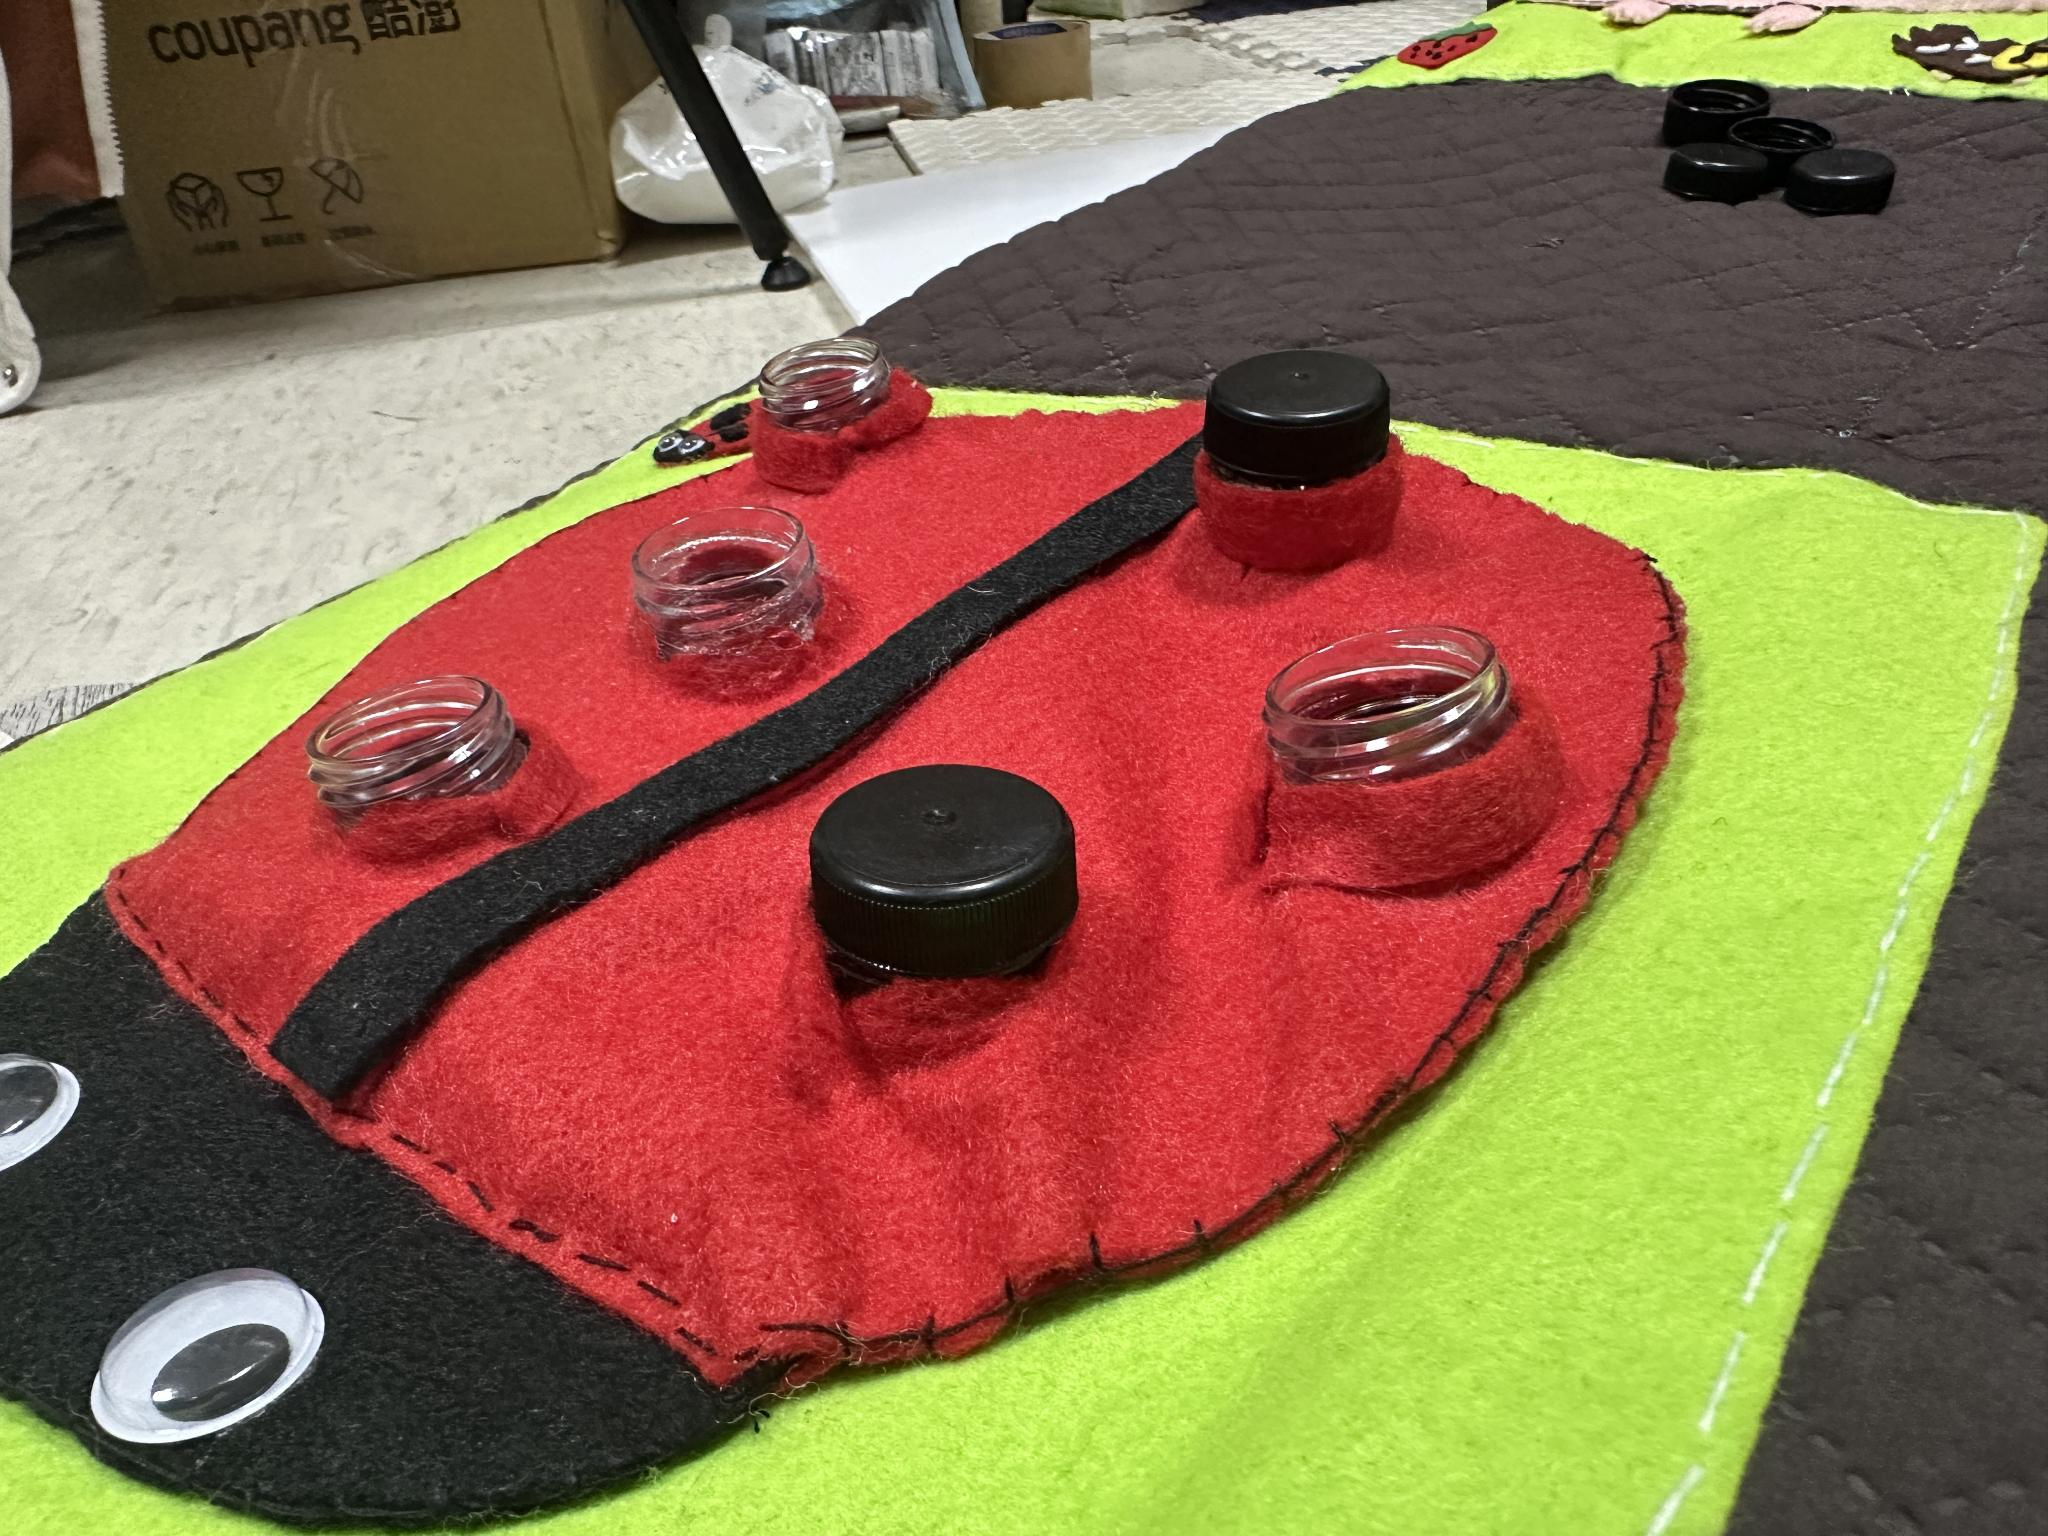cap_ok: (772, 739, 1134, 1036), (1161, 334, 1442, 599)
